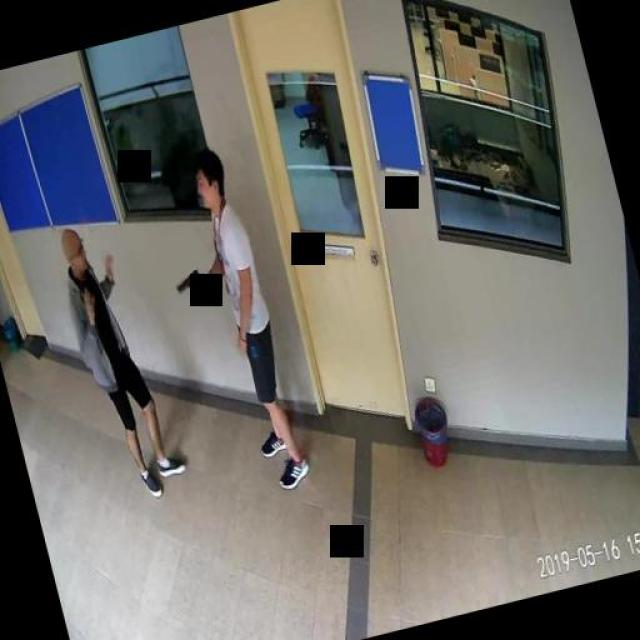gun: (172, 266, 206, 302)
